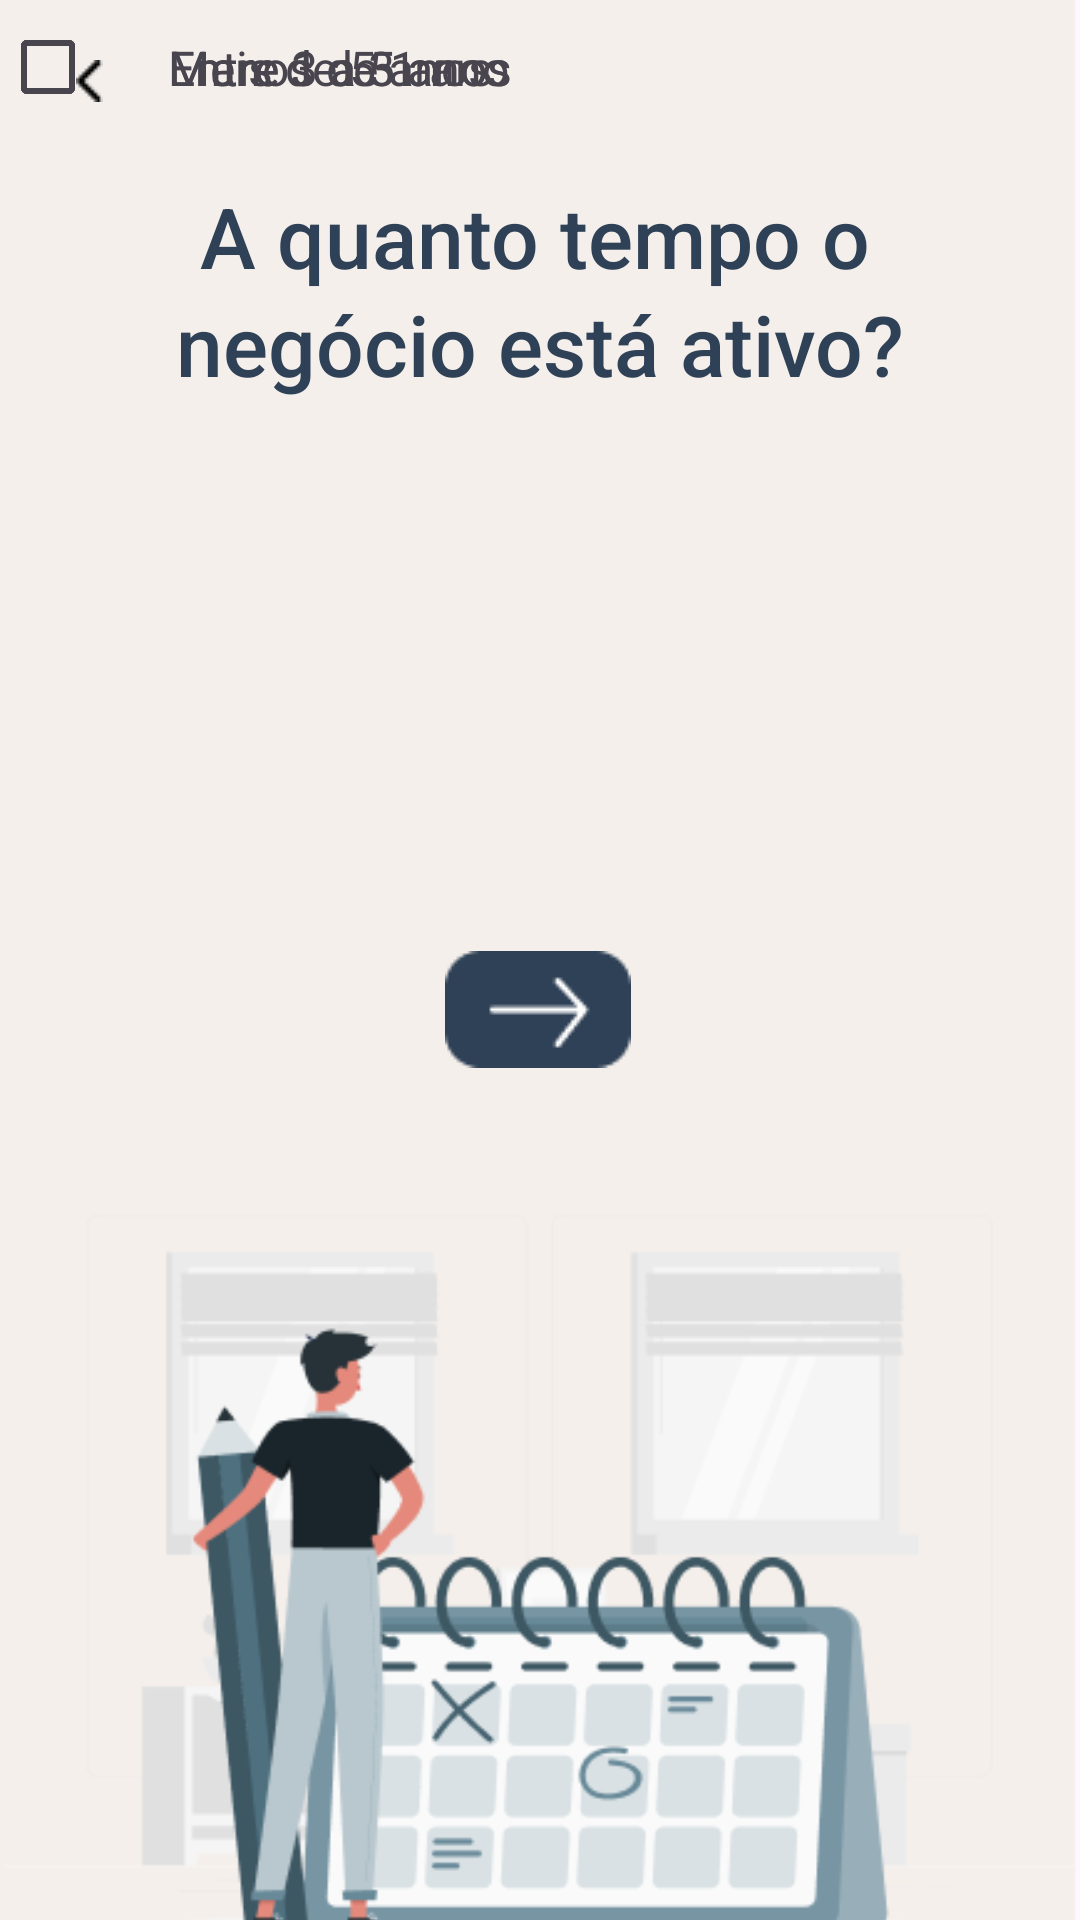

Where to tap for icons on this 1080×1920 app screen, as [x,y]:
btnpassar: [538,1009]
